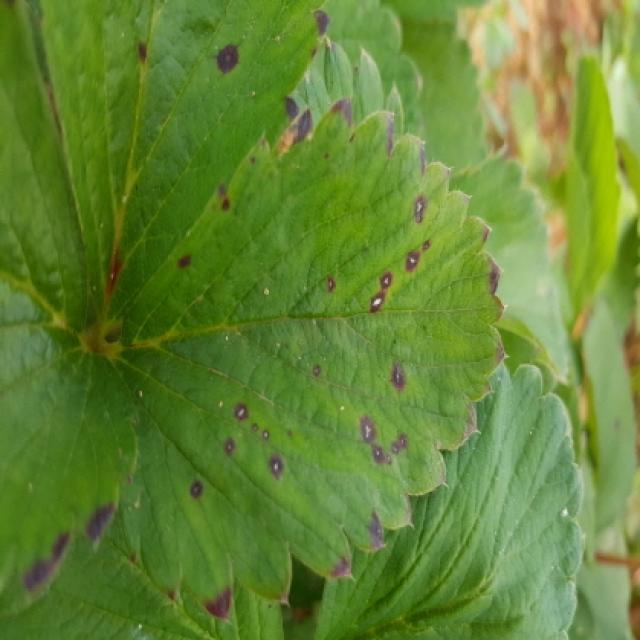Leaf Spot: (103, 95, 509, 625), (38, 0, 331, 338)
